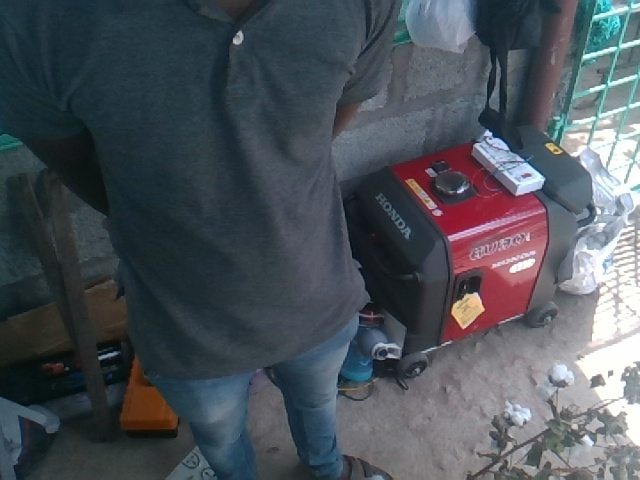cotton: (498, 400, 532, 427), (547, 361, 578, 387)
